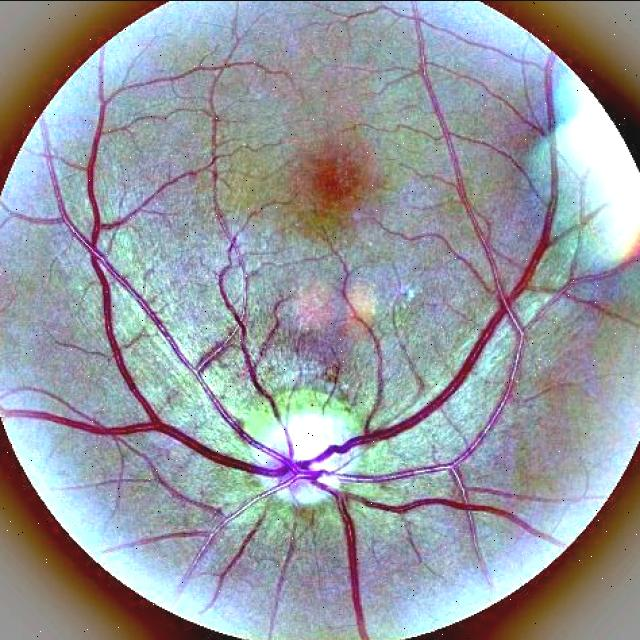Macula: (296, 138, 377, 225)
Nerves: (22, 313, 506, 493), (97, 254, 175, 345), (174, 347, 231, 420), (355, 497, 513, 517)
Optic Disk: (281, 390, 354, 459), (284, 481, 323, 504), (311, 452, 338, 469), (265, 424, 279, 450)
